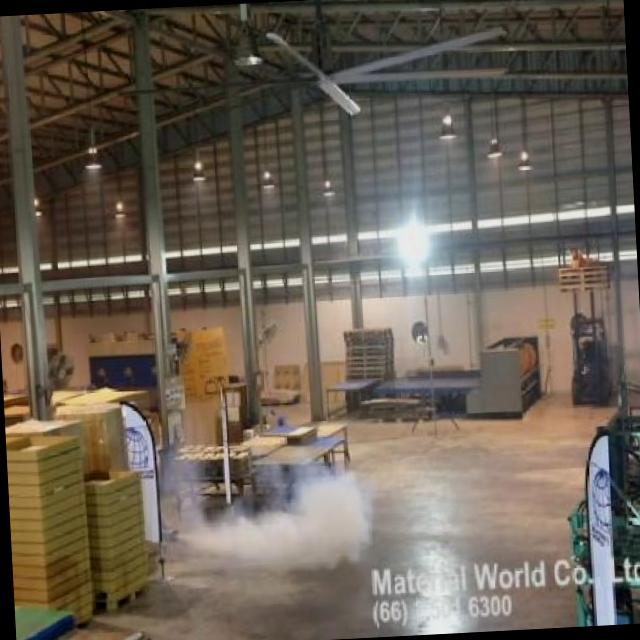smoke: (170, 436, 373, 586)
